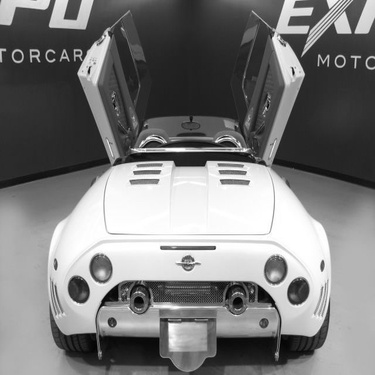car: (38, 3, 339, 362)
